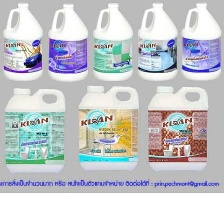cleaning_solution: (75, 83, 141, 173), (145, 84, 211, 173), (2, 86, 67, 174), (178, 0, 224, 83), (134, 1, 180, 83), (90, 1, 136, 82), (45, 1, 89, 84), (2, 1, 43, 82)
